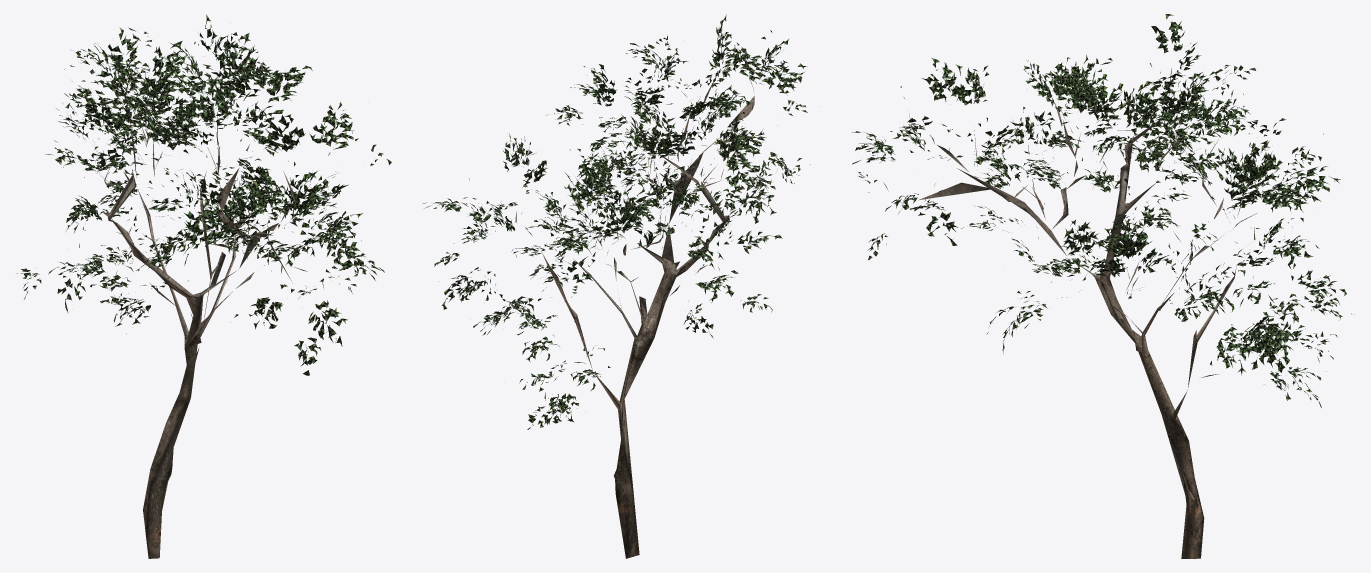
The model's file is tree_small_02.glb.
3 renders of one model, left to right at view 1: azimuth 30°, elevation 25°; view 2: azimuth 150°, elevation 25°; view 3: azimuth 270°, elevation 25°, orthographic. The views are drawn at different scales.
Visible parts, largest first — view 1: tree_small_02_LOD0; view 2: tree_small_02_LOD0; view 3: tree_small_02_LOD0.
Part boxes in pixels (x1,y1,x2,y2): tree_small_02_LOD0: [17, 14, 391, 558]; tree_small_02_LOD0: [423, 14, 821, 558]; tree_small_02_LOD0: [852, 14, 1353, 558].
Size of the model in its own units: 4.41 by 6.96 by 6.29.
3 materials, 3 textured.
